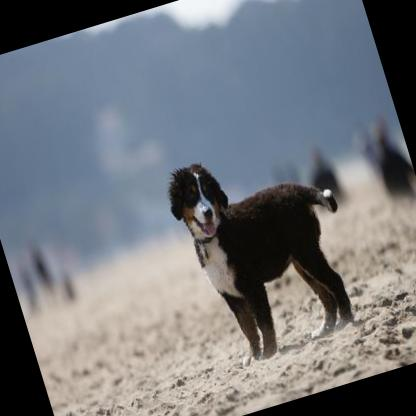Bernese_mountain_dog: (158, 126, 374, 374)
